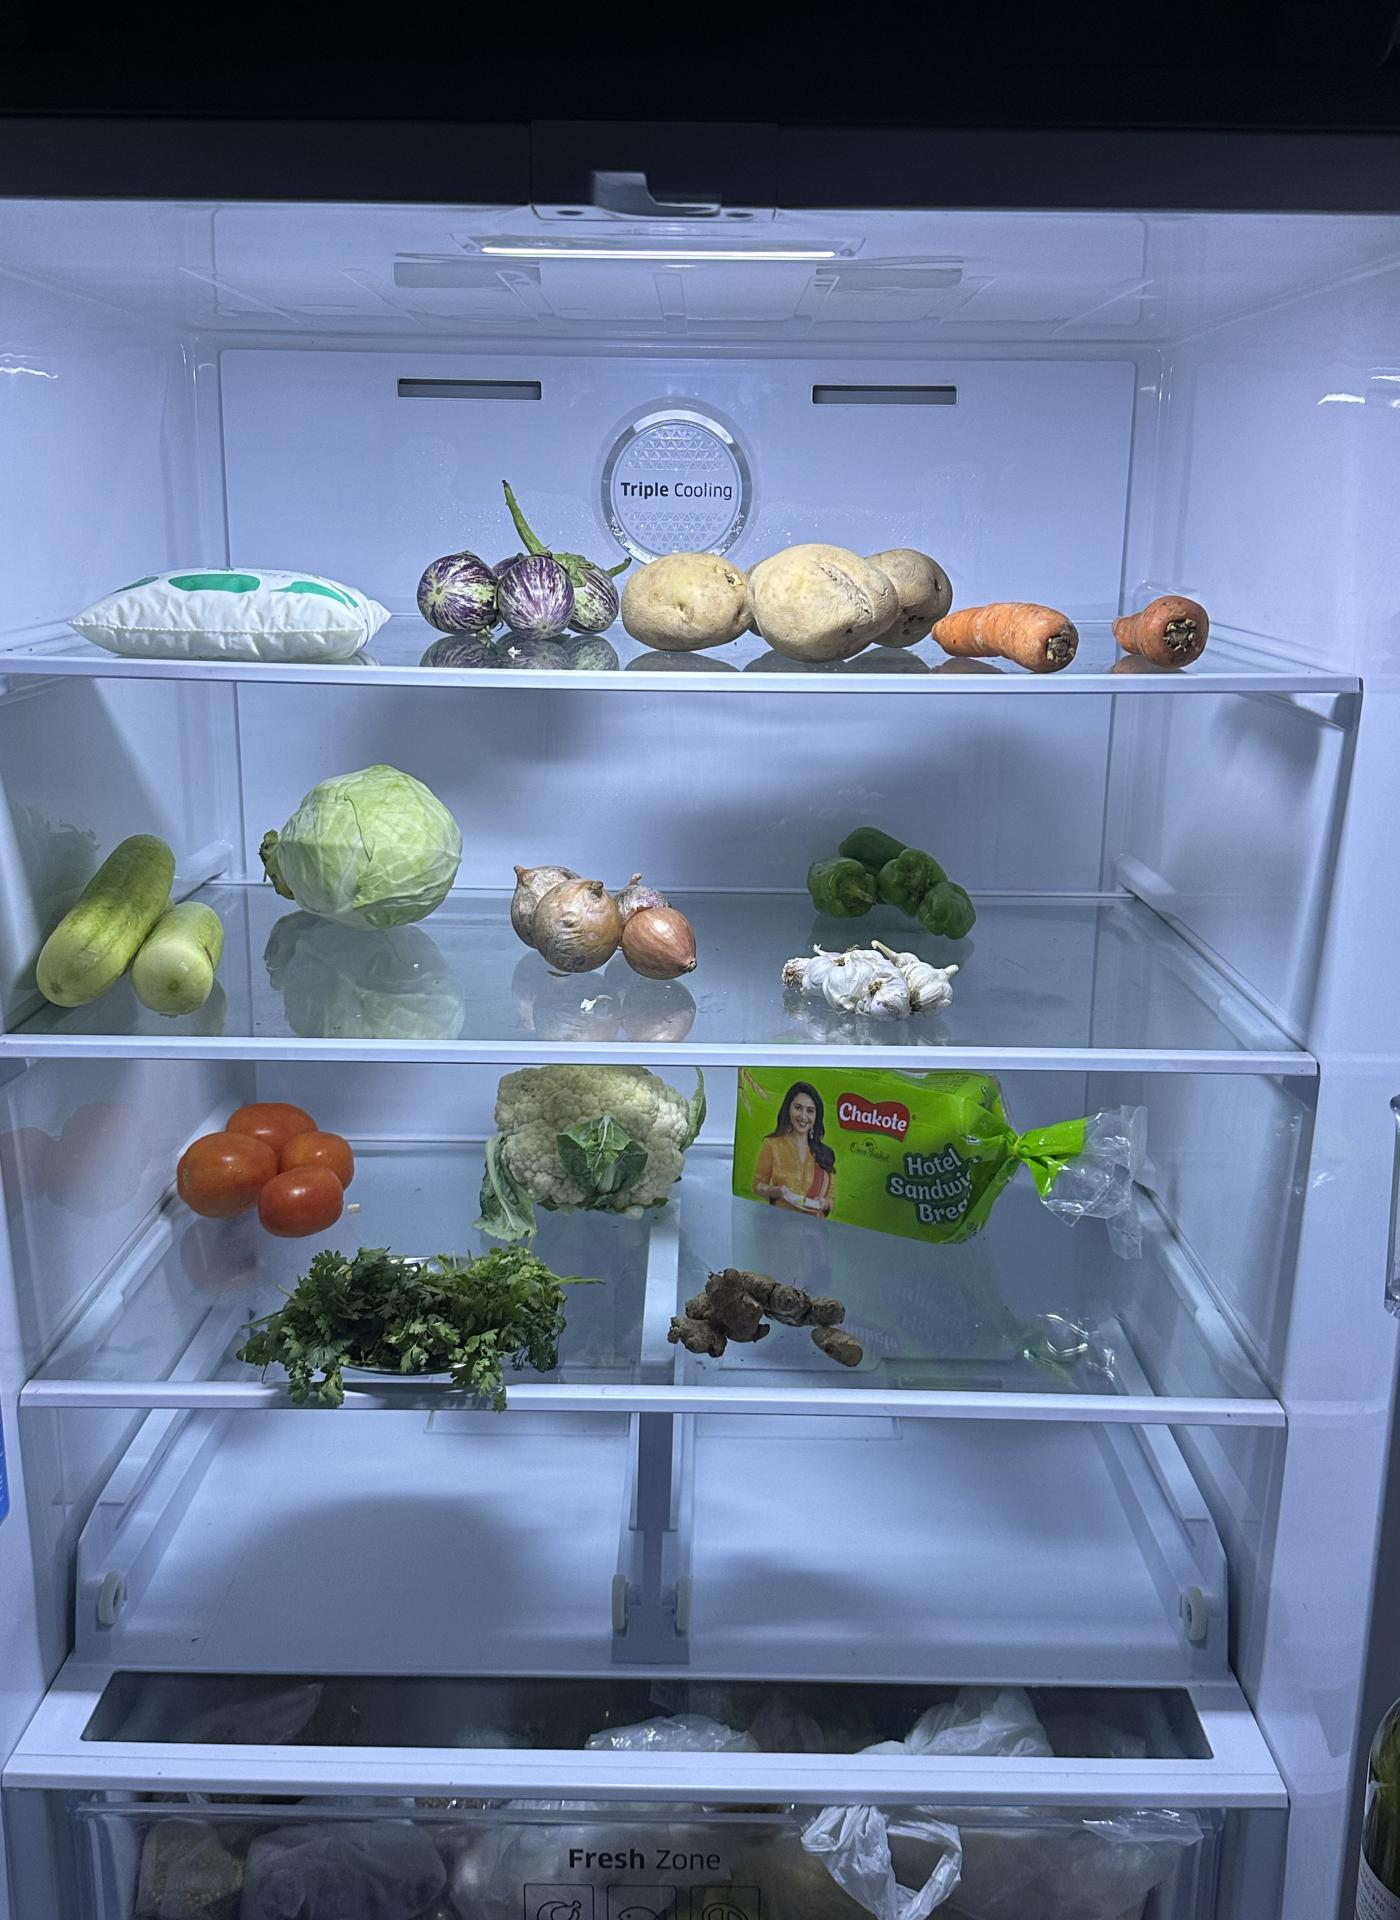bread: (723, 1060, 1015, 1243), (1357, 1676, 1400, 1920)
brinjal: (422, 538, 607, 657)
cabbage: (258, 768, 462, 935)
capsicum: (810, 821, 981, 941)
carrots: (944, 596, 1221, 674)
cauliflower: (485, 1055, 708, 1209)
coriander: (243, 1240, 567, 1394)
cucumber: (27, 833, 230, 1018)
garlic: (774, 936, 956, 1021)
ginger: (659, 1260, 871, 1371), (513, 866, 705, 982)
milk: (63, 562, 382, 668)
potato: (628, 541, 953, 657)
tomato: (171, 1091, 355, 1230)
